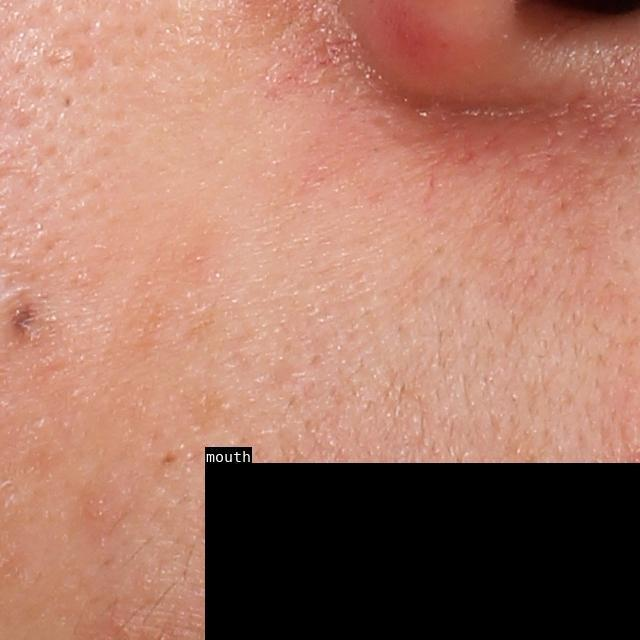nevus: (8, 297, 38, 346)
